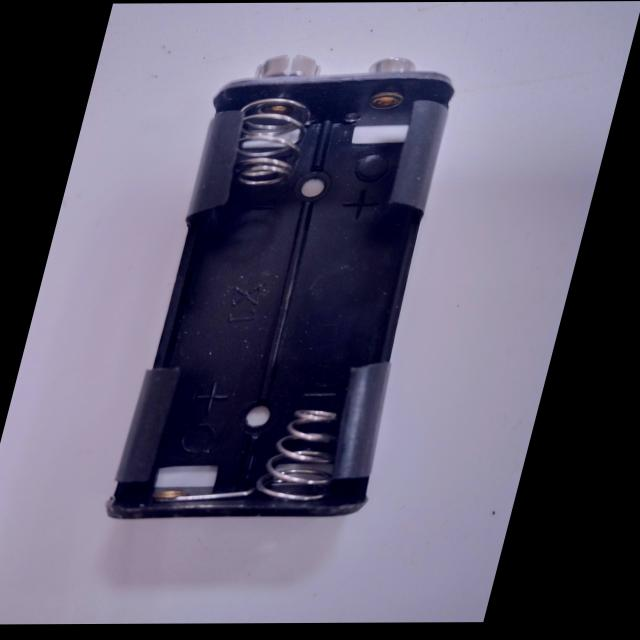Ripple Tank Power Supply: (66, 39, 513, 536)
